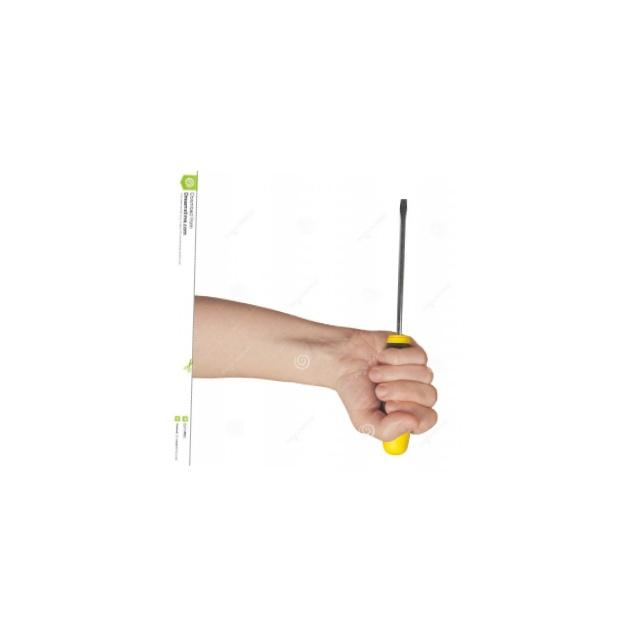screwdriver: (372, 195, 423, 458)
